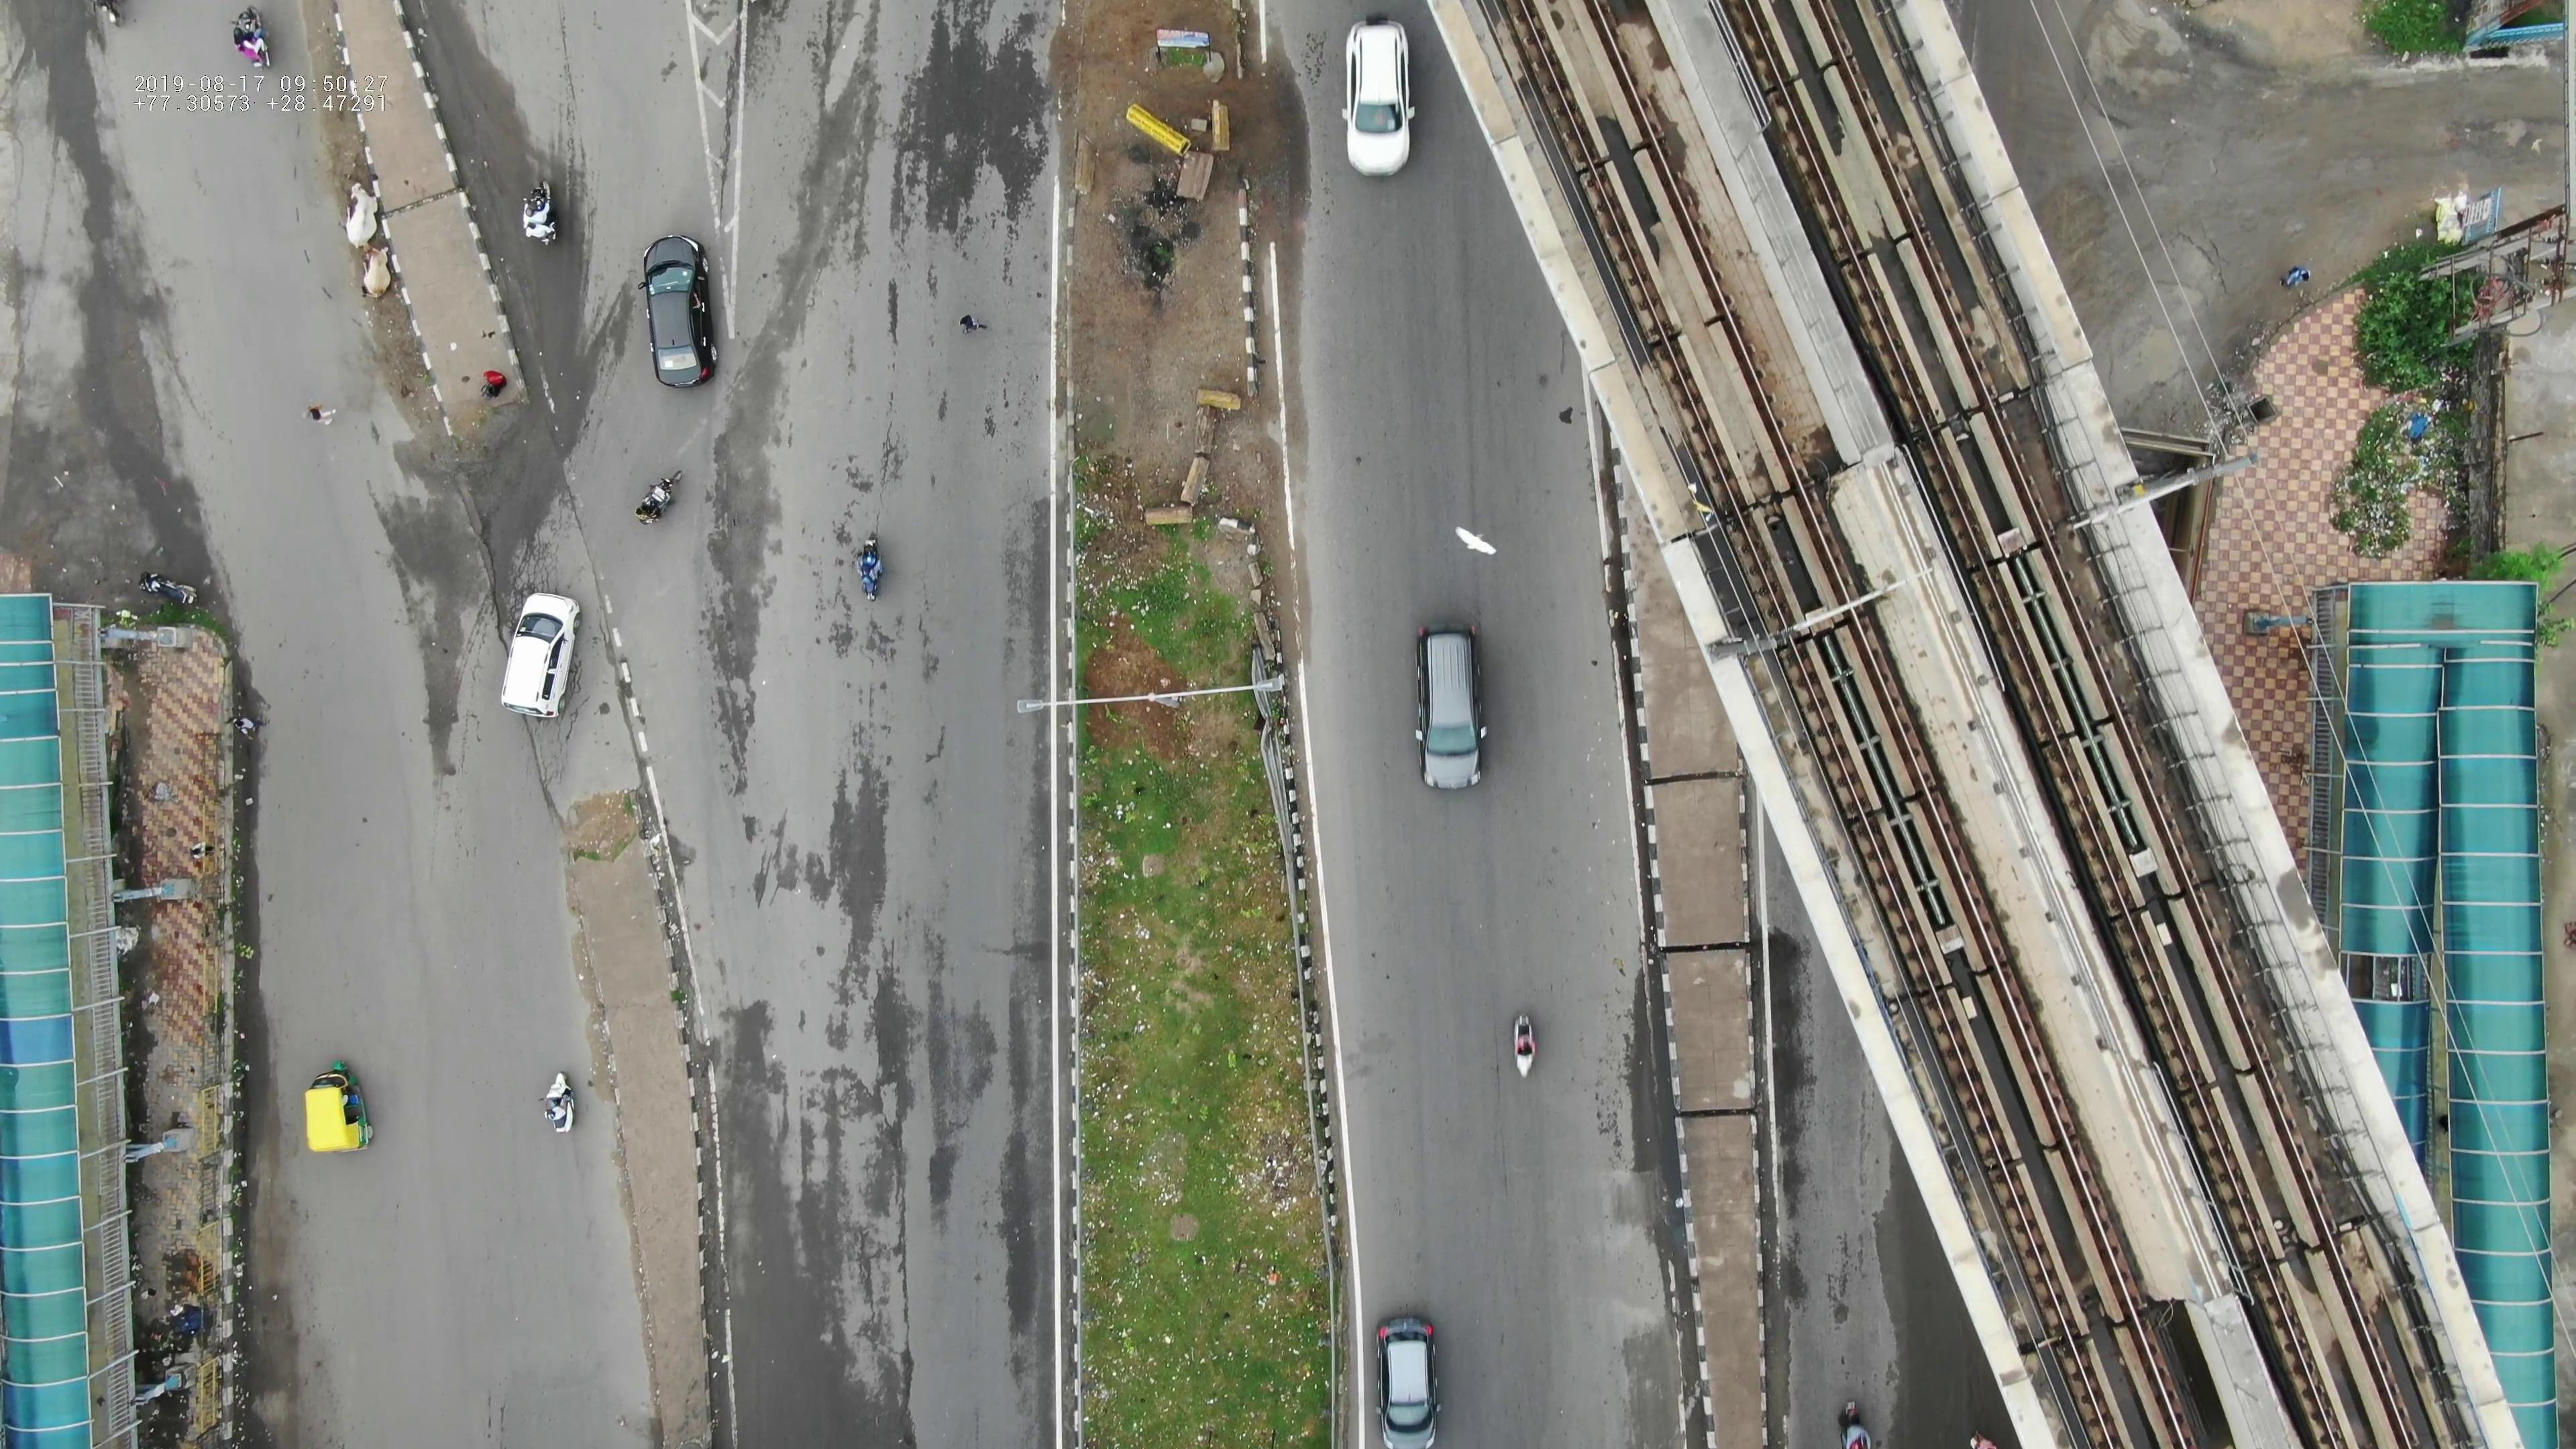Alligator_cracks: (1290, 30, 1336, 96)
Hair_cracks: (2173, 168, 2250, 299)
